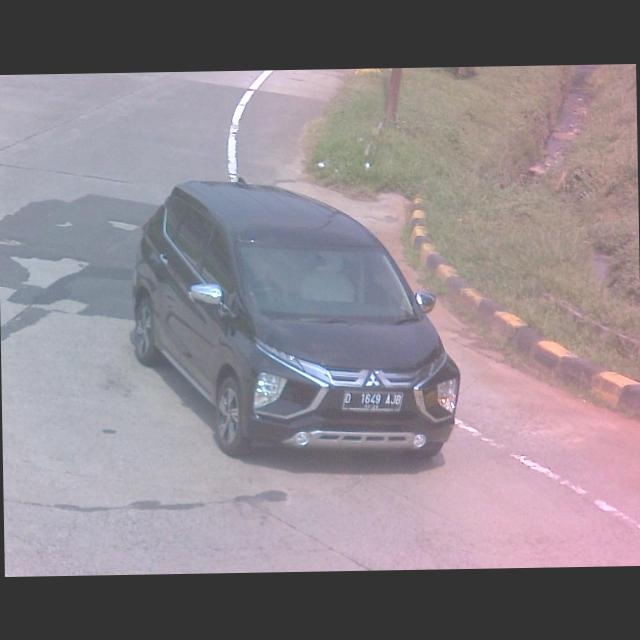plate: (341, 384, 406, 413)
